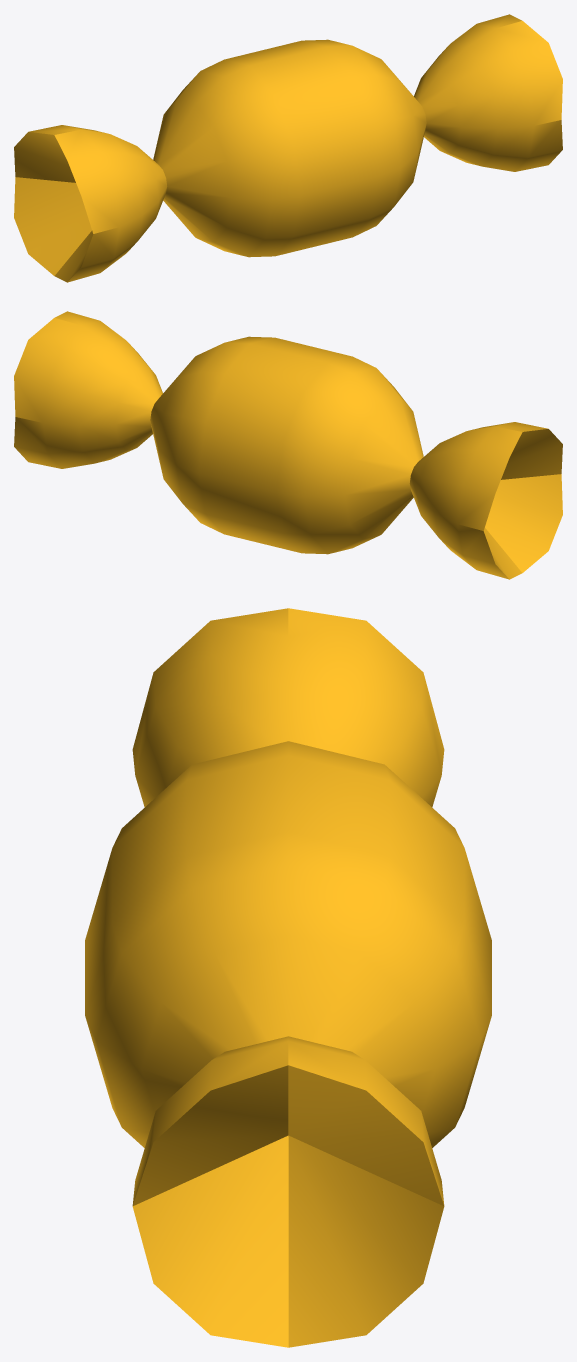
Rendered from candyD.glb.
3 views of the same model, one above another, from view 1: azimuth 30°, elevation 25°; view 2: azimuth 150°, elevation 25°; view 3: azimuth 270°, elevation 25° (orthographic). The views are drawn at different scales.
Parts seen in each view (by area): view 1: candyD; view 2: candyD; view 3: candyD.
Part boxes in pixels (x1=…): candyD: x1=14, y1=14, x2=562, y2=282; candyD: x1=14, y1=311, x2=562, y2=579; candyD: x1=85, y1=608, x2=491, y2=1347.
Bounding box in the file's own units: 0.3199 × 0.117 × 0.117.
